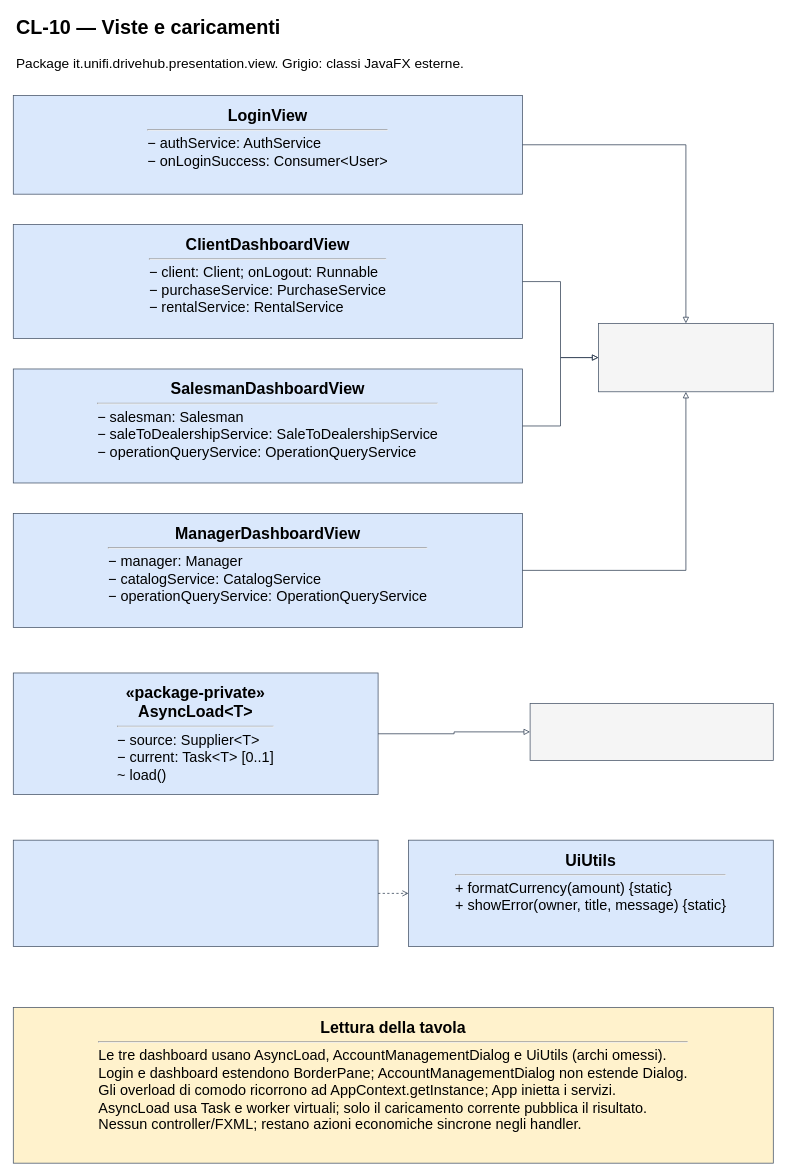
Some shapes in this 787 by 1176 pixel diagram are drawn without their labels. Here are the shapes that lost their labels. From the top down, the centre of each, then its label:
At [685,357]: "«JavaFX» BorderPane".
At [651,731]: "«JavaFX» HBox".
At [195,893]: "AccountManagementDialog + show(..., authService, ...) {static}".
